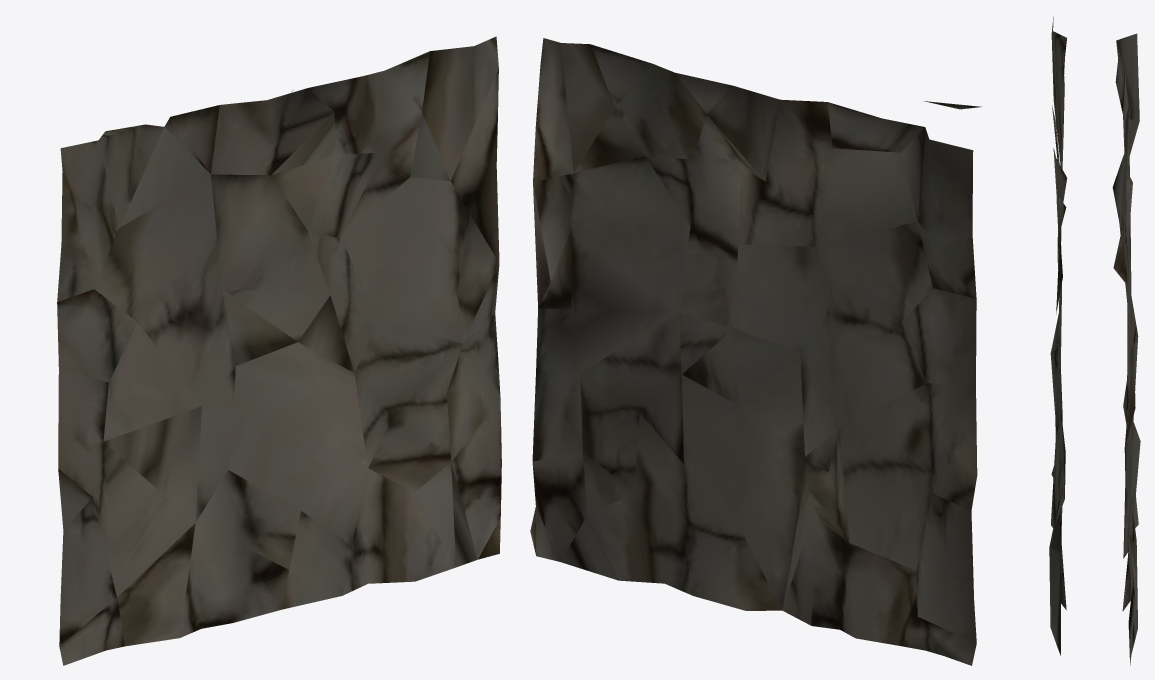
The model's file is wall_panel_ready.glb.
3 renders of one model, left to right at view 1: azimuth 30°, elevation 25°; view 2: azimuth 150°, elevation 25°; view 3: azimuth 270°, elevation 25°, orthographic. The views are drawn at different scales.
Visible parts, largest first — view 1: Module; view 2: Module; view 3: Module.
Boxes of the visible parts, <box> form: Module: <box>57,36,501,665</box>; Module: <box>530,38,981,665</box>; Module: <box>1049,16,1140,665</box>.
Bounding box in the file's own units: 2 × 2.24 × 0.4.
1 material, 1 textured.
